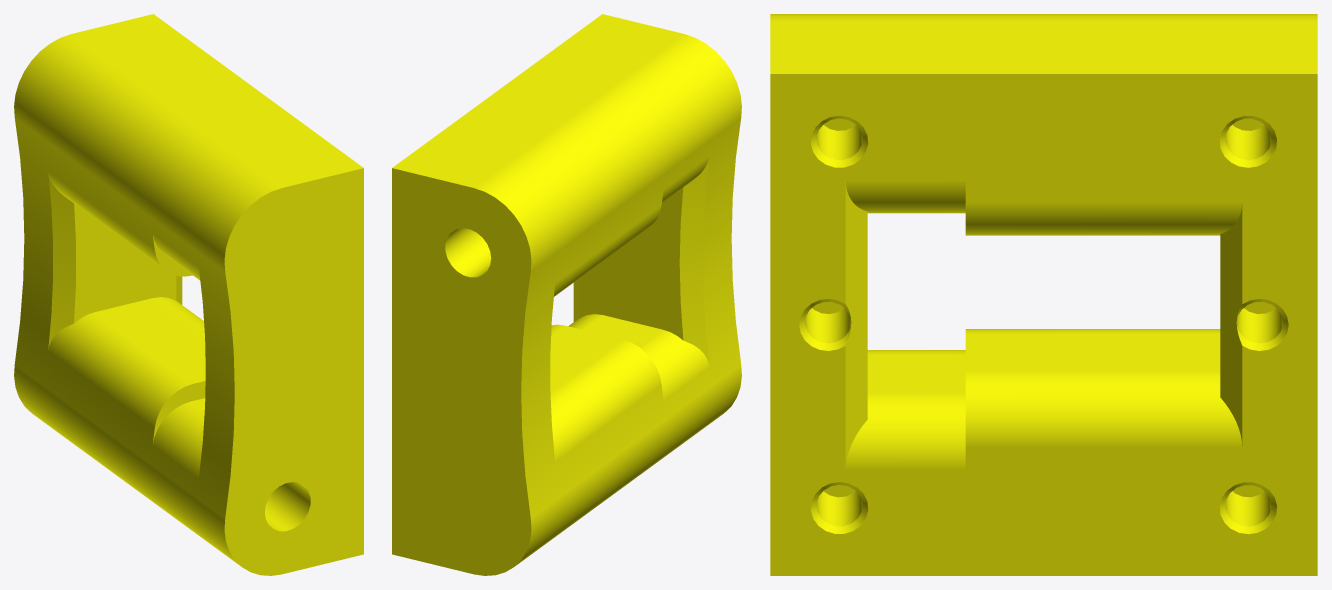
File: XYZ Stage V5_Y Stage Part V5.obj
The picture shows the model from 3 angles, left to right: view 1: azimuth 30°, elevation 25°; view 2: azimuth 150°, elevation 25°; view 3: azimuth 270°, elevation 25°; orthographic projection. The views are drawn at different scales.
Visible parts, largest first — view 1: Solid1:7; view 2: Solid1:7; view 3: Solid1:7.
Boxes of the visible parts, <box> form: Solid1:7: <box>14,14,363,575</box>; Solid1:7: <box>392,14,741,575</box>; Solid1:7: <box>770,14,1317,575</box>.
Size of the model in its own units: 9.09 by 24.05 by 23.75.
